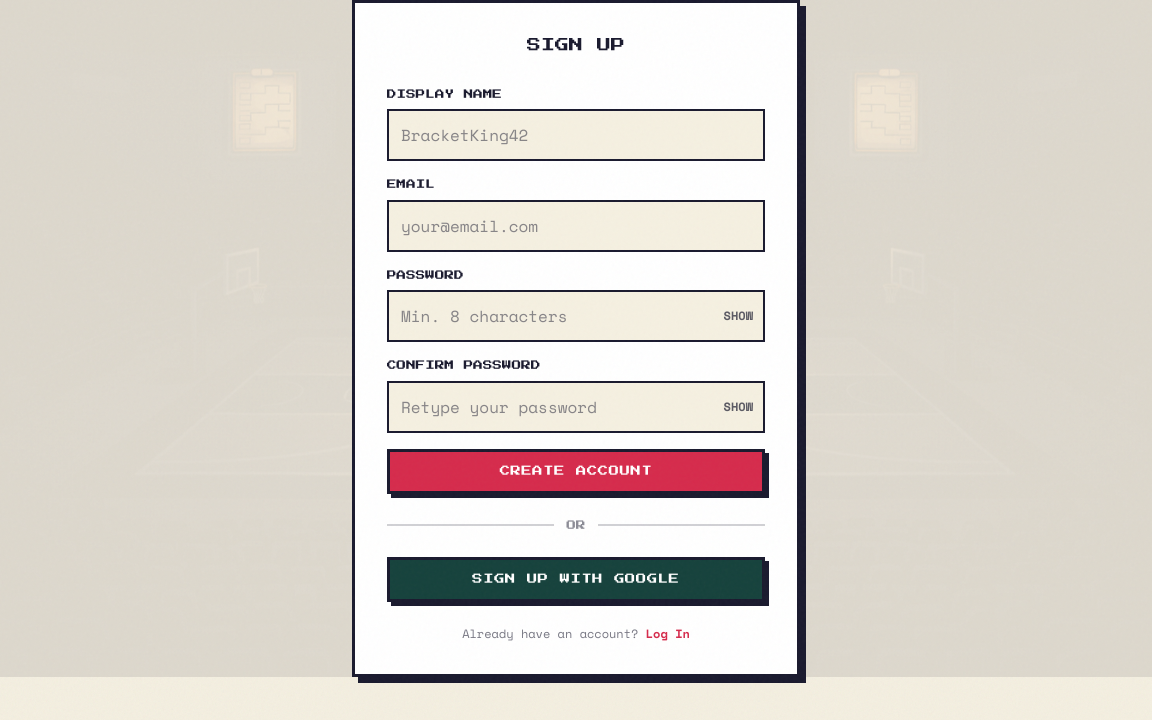
Test: SignupForm › shows error message when sign-up fails
Type "TestUser" into the field with placeholder "BracketKing42" at x=576, y=135, box left=387, top=109, right=765, bottom=161
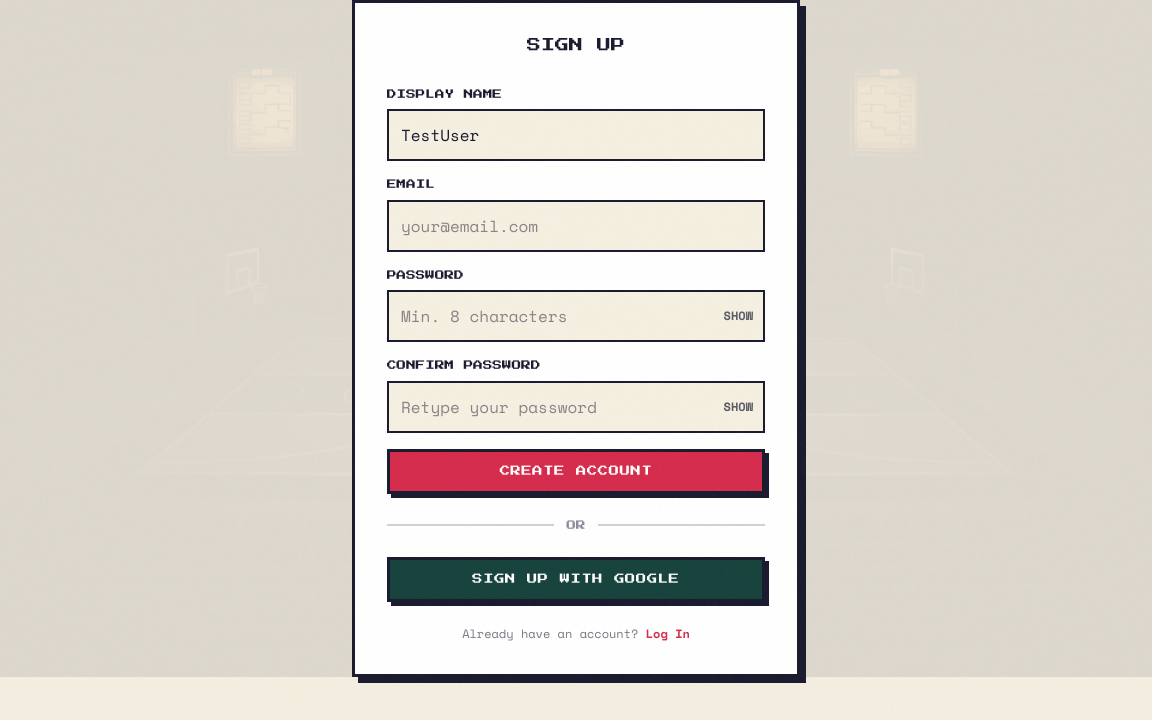
Type "test@example.com" into the field with placeholder "your@email.com" at x=576, y=226, box left=387, top=200, right=765, bottom=252
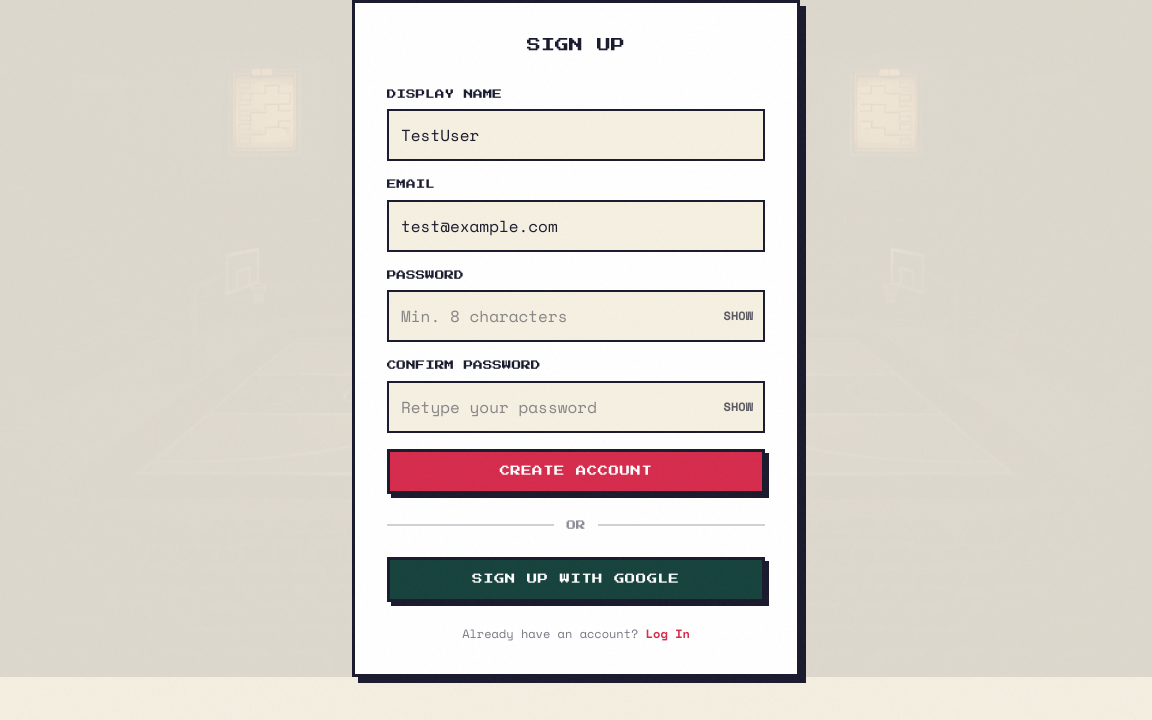
Type "password123" into the password field with placeholder "Min. 8 characters" at x=576, y=316, box left=387, top=290, right=765, bottom=342
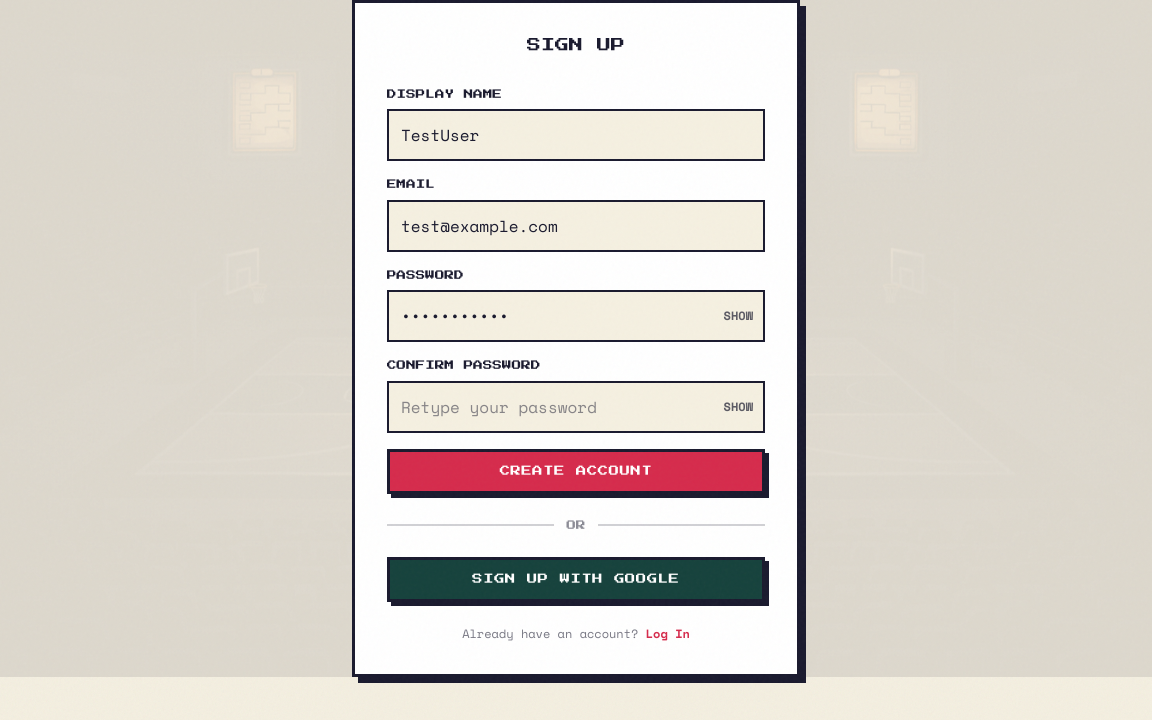
Type "password123" into the password field with placeholder "Retype your password" at x=576, y=407, box left=387, top=381, right=765, bottom=433
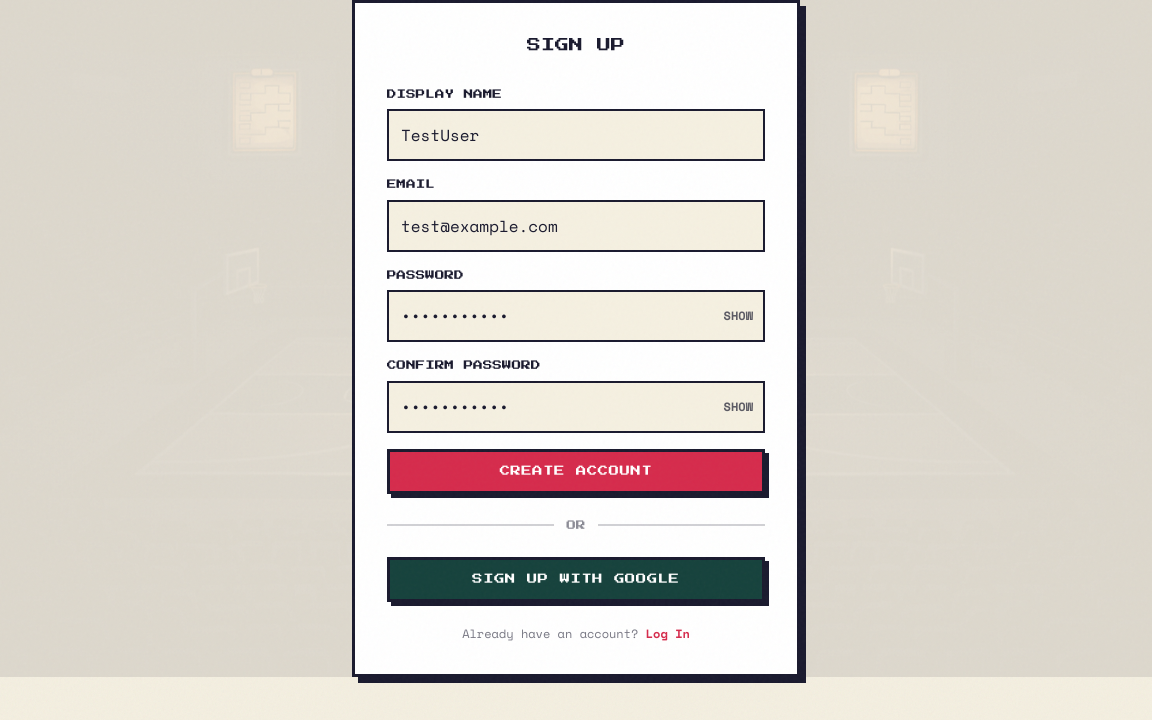
Click the button "Create Account" at x=576, y=471, box left=387, top=449, right=765, bottom=494
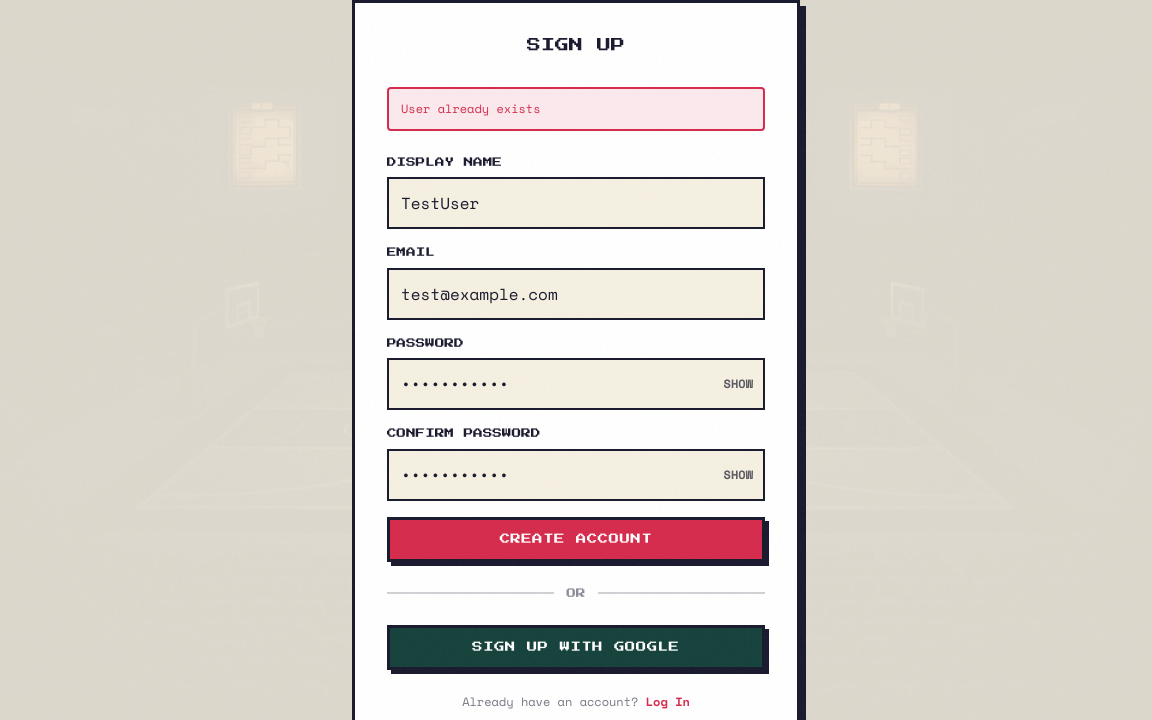
Expected: the button "Create Account" is enabled, left=387, top=517, right=765, bottom=562
Expected: the message reads "User already exists", left=401, top=100, right=540, bottom=117
